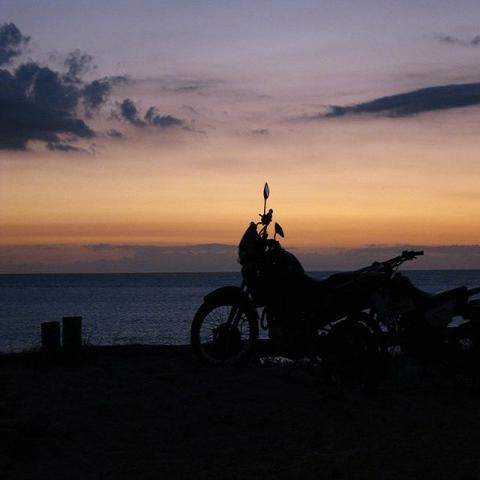motorcycle: (190, 182, 424, 408)
